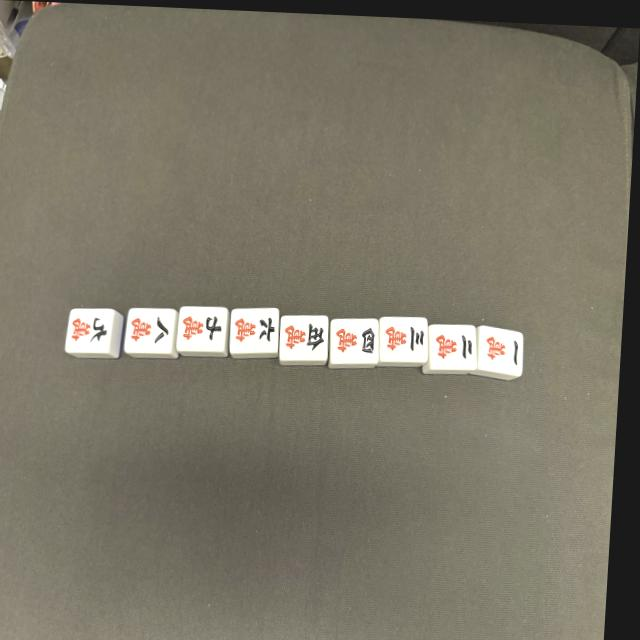m1: (477, 328, 523, 375)
m2: (427, 326, 477, 370)
m3: (379, 316, 429, 361)
m4: (329, 318, 380, 364)
m5: (278, 315, 327, 358)
m6: (230, 308, 277, 354)
m7: (179, 309, 227, 349)
m8: (124, 309, 174, 354)
m9: (66, 309, 113, 352)
